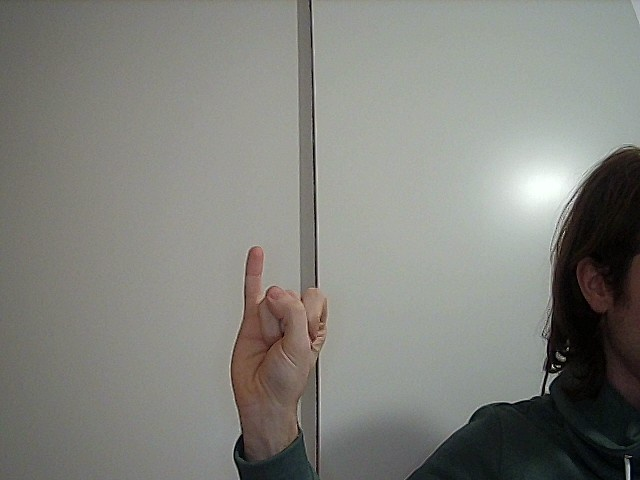i: (226, 233, 350, 401)
